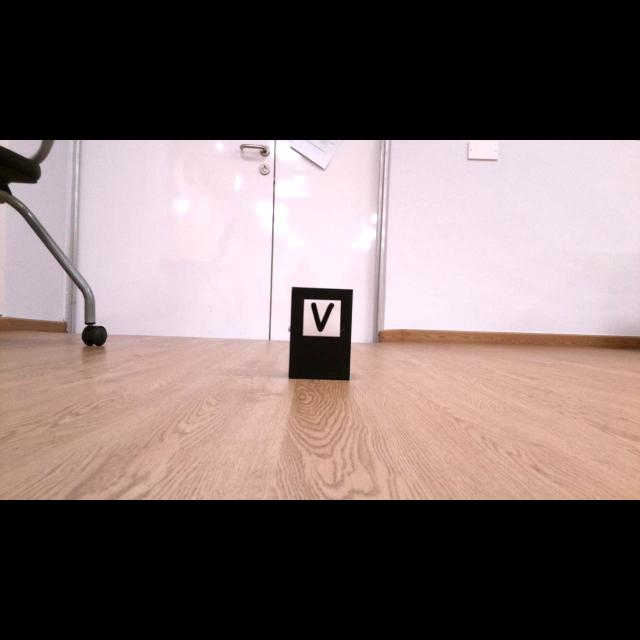V: (311, 302, 334, 332)
